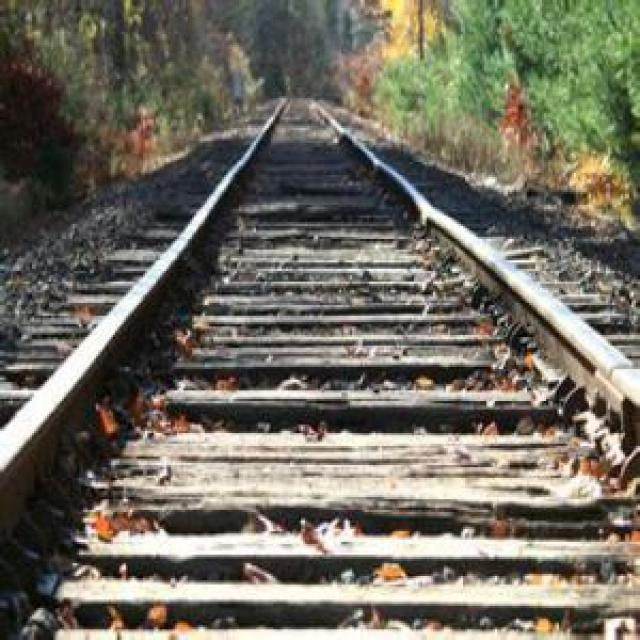rail: (1, 98, 294, 625), (305, 102, 640, 521)
